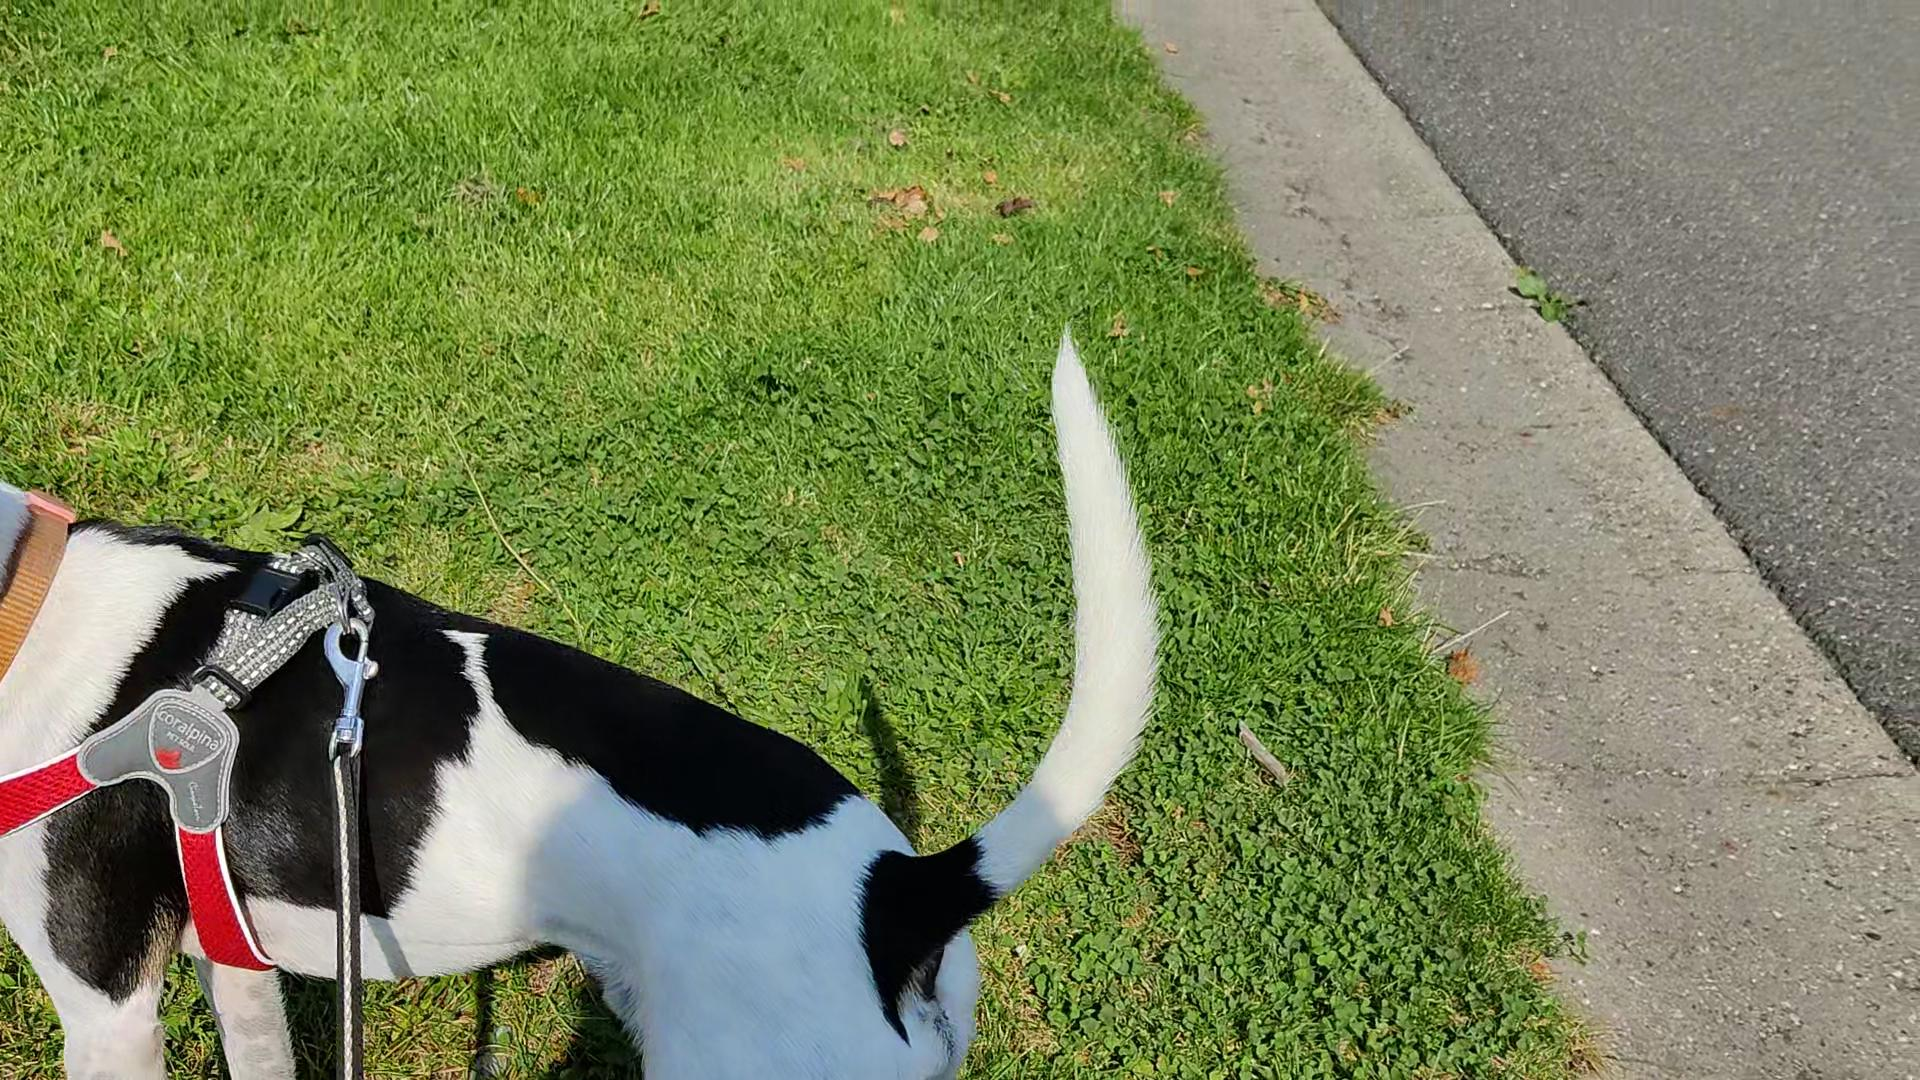Dog: (0, 311, 1166, 1079)
